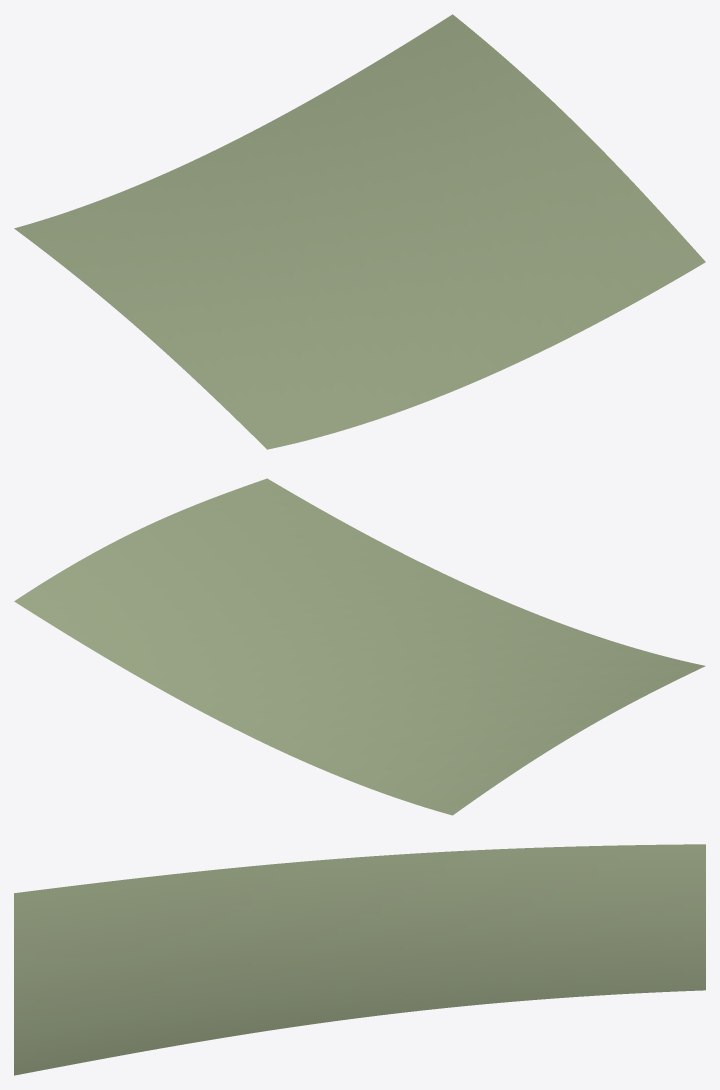
Rendered from expanse-24-14.glb.
The picture shows the model from 3 angles, top to bottom: view 1: azimuth 30°, elevation 25°; view 2: azimuth 150°, elevation 25°; view 3: azimuth 270°, elevation 25°; orthographic projection. The views are drawn at different scales.
Parts seen in each view (by area): view 1: expanse-24-14; view 2: expanse-24-14; view 3: expanse-24-14.
Part boxes in pixels (x1,y1,x2,y2): expanse-24-14: (14, 14, 705, 449); expanse-24-14: (14, 478, 705, 815); expanse-24-14: (14, 844, 705, 1075).
Size of the model in its own units: 256 by 80 by 256.
